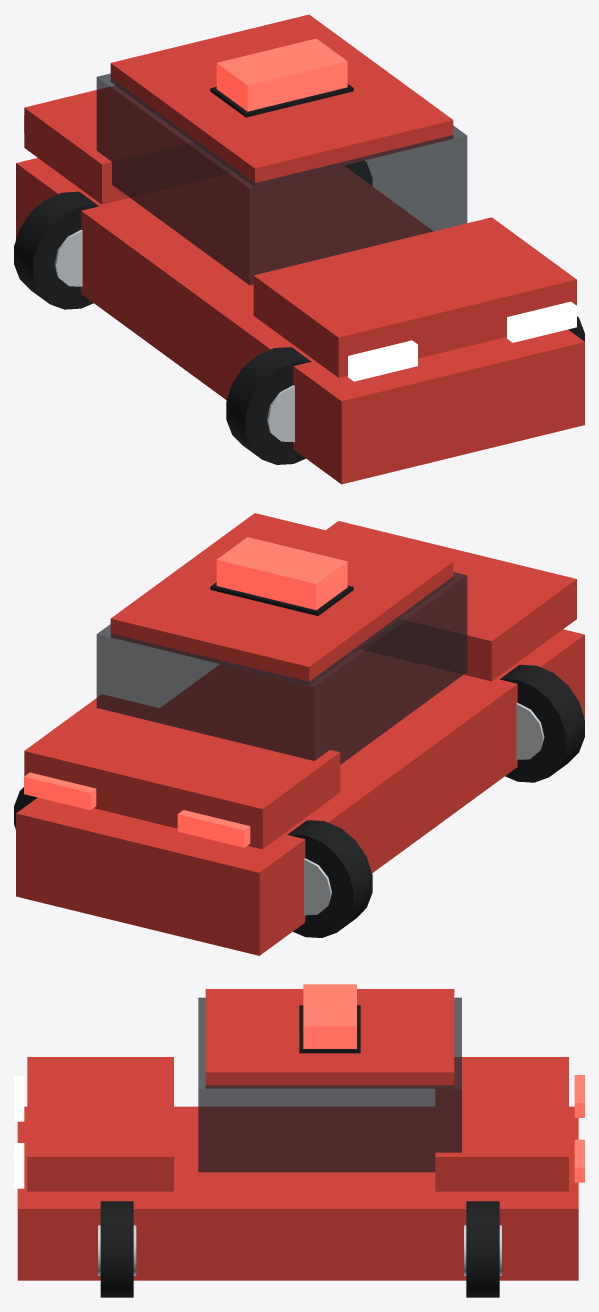
File: car-request-slow.glb
The picture shows the model from 3 angles, top to bottom: view 1: azimuth 30°, elevation 25°; view 2: azimuth 150°, elevation 25°; view 3: azimuth 270°, elevation 25°; orthographic projection. The views are drawn at different scales.
Visible parts, largest first — view 1: car-request-slow; view 2: car-request-slow; view 3: car-request-slow.
Boxes of the visible parts, x1,y1,x2,y2 form: car-request-slow: (14,14,584,484); car-request-slow: (14,513,584,955); car-request-slow: (14,984,584,1297).
Bounding box in the file's own units: 2.65 × 2.05 × 4.48.
